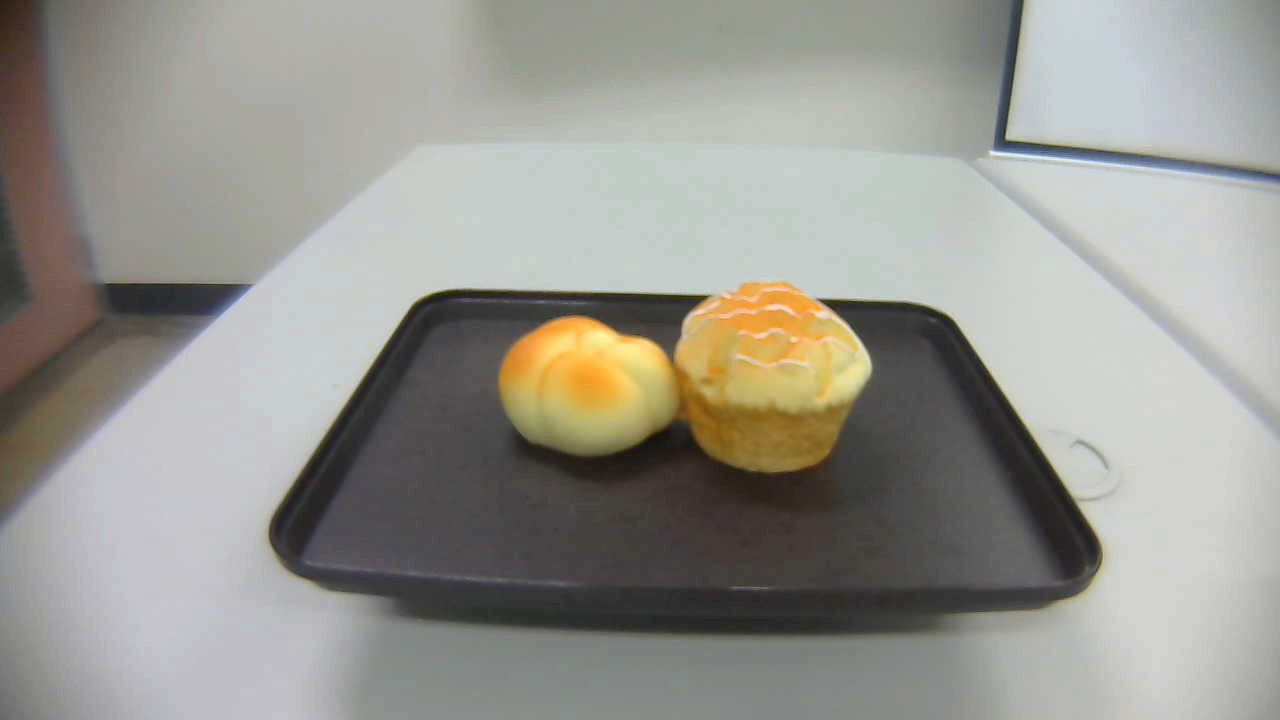cupcake: (675, 281, 873, 474)
twist bread: (499, 314, 679, 458)
